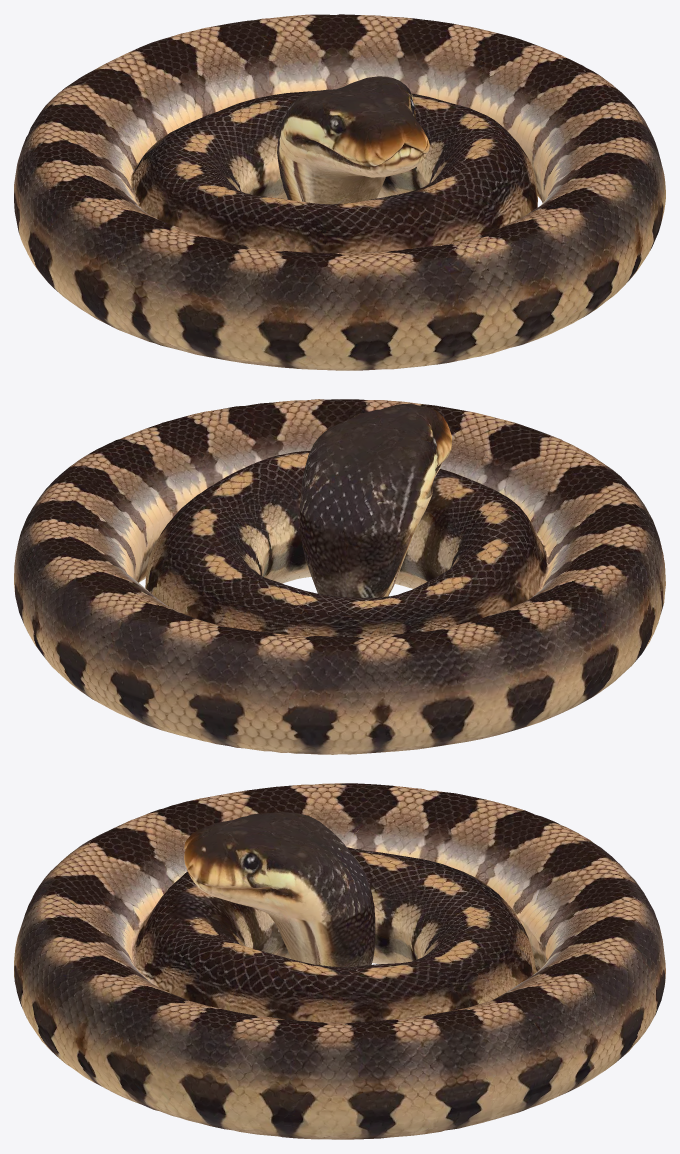
The model's file is animal-adder-snake.glb.
The picture shows the model from 3 angles, top to bottom: view 1: azimuth 30°, elevation 25°; view 2: azimuth 150°, elevation 25°; view 3: azimuth 270°, elevation 25°; orthographic projection.
Bounding box in the file's own units: 1.91 × 0.6153 × 1.91.
1 material, 1 textured.
